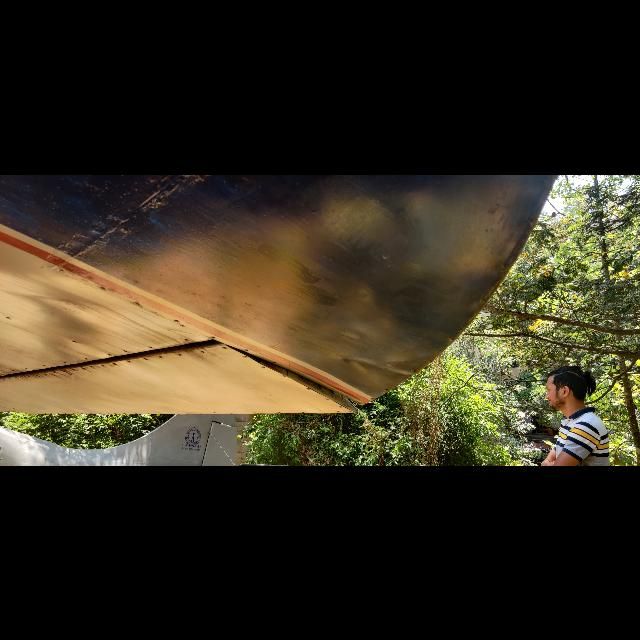dent: (341, 325, 419, 393)
